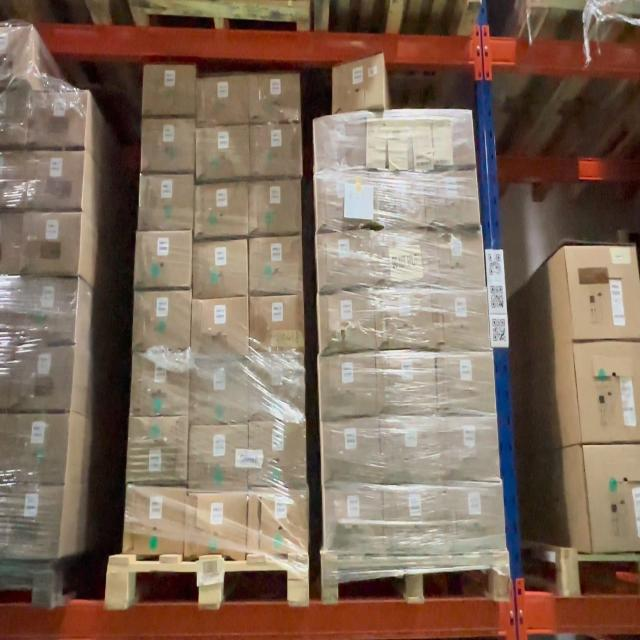box: (571, 243, 640, 337), (578, 344, 640, 444), (586, 446, 640, 552), (4, 485, 58, 558), (187, 494, 248, 556), (387, 489, 446, 553), (127, 488, 184, 554), (131, 418, 188, 483), (447, 486, 503, 551), (12, 414, 65, 482), (251, 493, 308, 556), (382, 420, 439, 482), (327, 488, 383, 550), (192, 426, 248, 488), (379, 354, 436, 414), (17, 347, 72, 409), (251, 423, 305, 486), (324, 422, 379, 483), (193, 364, 248, 424), (136, 290, 191, 349), (443, 420, 497, 480), (250, 360, 305, 418), (320, 292, 374, 351), (194, 301, 248, 360), (135, 355, 189, 414), (321, 356, 374, 416), (442, 353, 495, 412), (378, 290, 433, 346), (138, 233, 192, 289), (319, 232, 373, 288), (25, 216, 77, 274), (318, 174, 372, 228), (432, 230, 484, 286), (251, 295, 303, 351), (24, 280, 73, 339), (195, 242, 248, 296), (140, 176, 193, 230), (251, 238, 301, 294), (438, 291, 487, 348), (197, 182, 248, 236), (374, 232, 425, 286), (29, 153, 80, 207), (250, 180, 301, 233), (428, 172, 479, 224), (143, 121, 194, 172), (335, 59, 386, 110), (250, 124, 300, 176), (375, 174, 425, 225), (145, 65, 196, 115), (200, 128, 248, 180), (425, 114, 473, 166), (370, 117, 418, 169), (316, 120, 364, 170), (249, 75, 300, 122), (200, 76, 247, 125), (1, 215, 19, 273)
